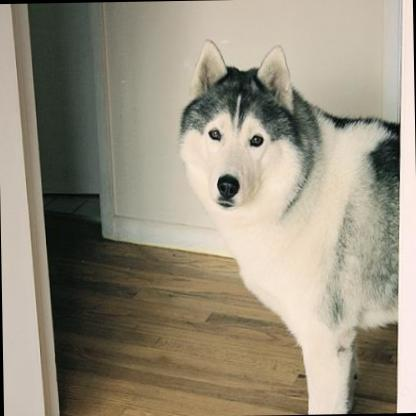Siberian_husky: (172, 34, 402, 414)
